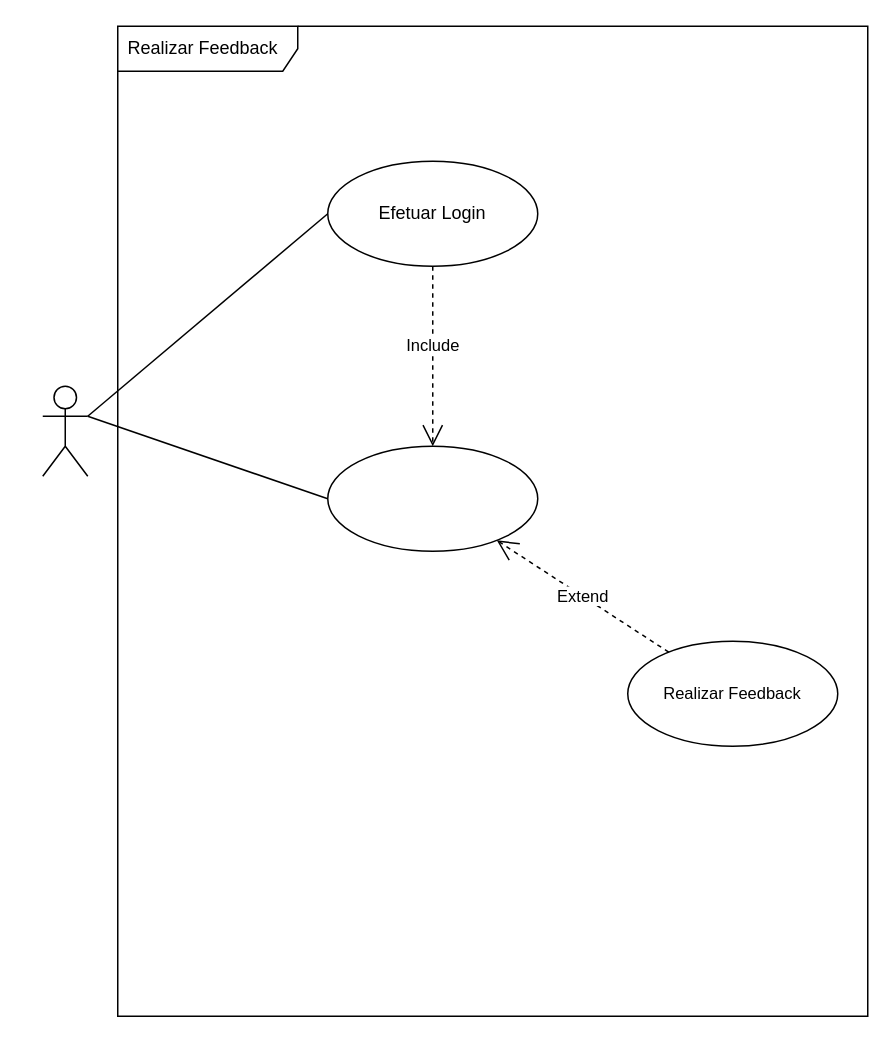
Image size: 894x1043. Some labels were removed from this diagram. Here are the shapes that lost their labels. From the top down, the box of each, then its label:
(41, 385, 88, 476): Psicologo
(326, 445, 538, 551): Acessar Formulários Respondidos
